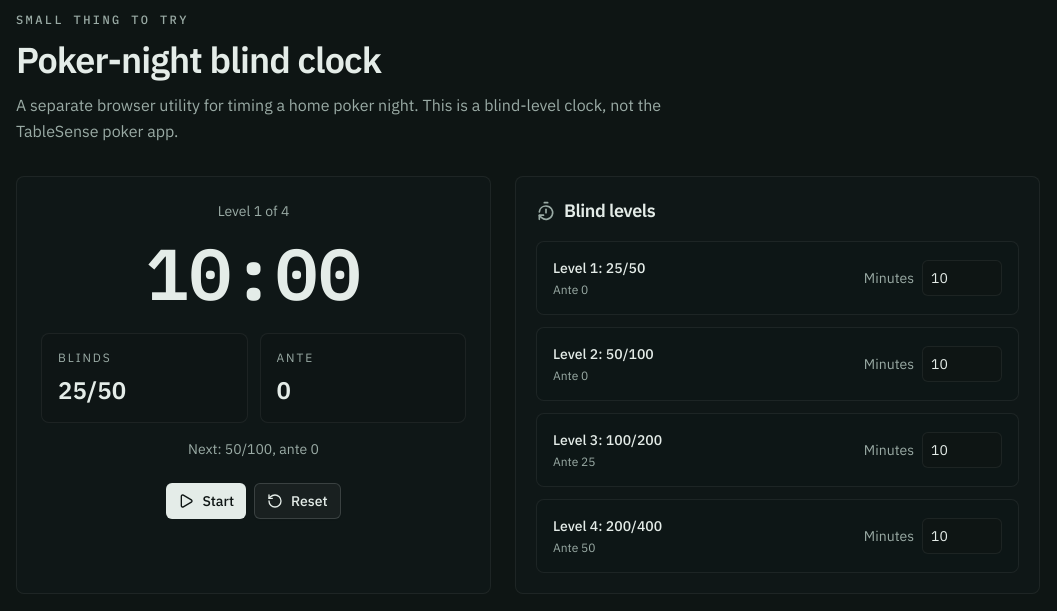
Test: TableStakes › updates level duration
This screenshot has width=1057, height=611.
Replace the text in the number field named "Level 1 minutes" with "2". click: (962, 278)
box: [922,260,1002,296]
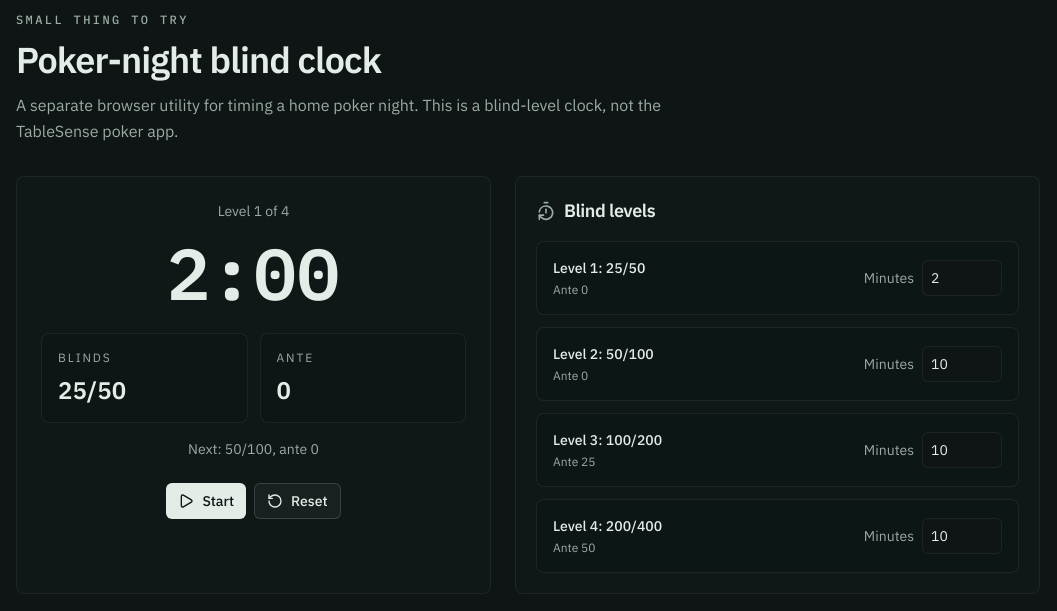
expect the text "2:00" is shown: met, box [167,226,340,320]
